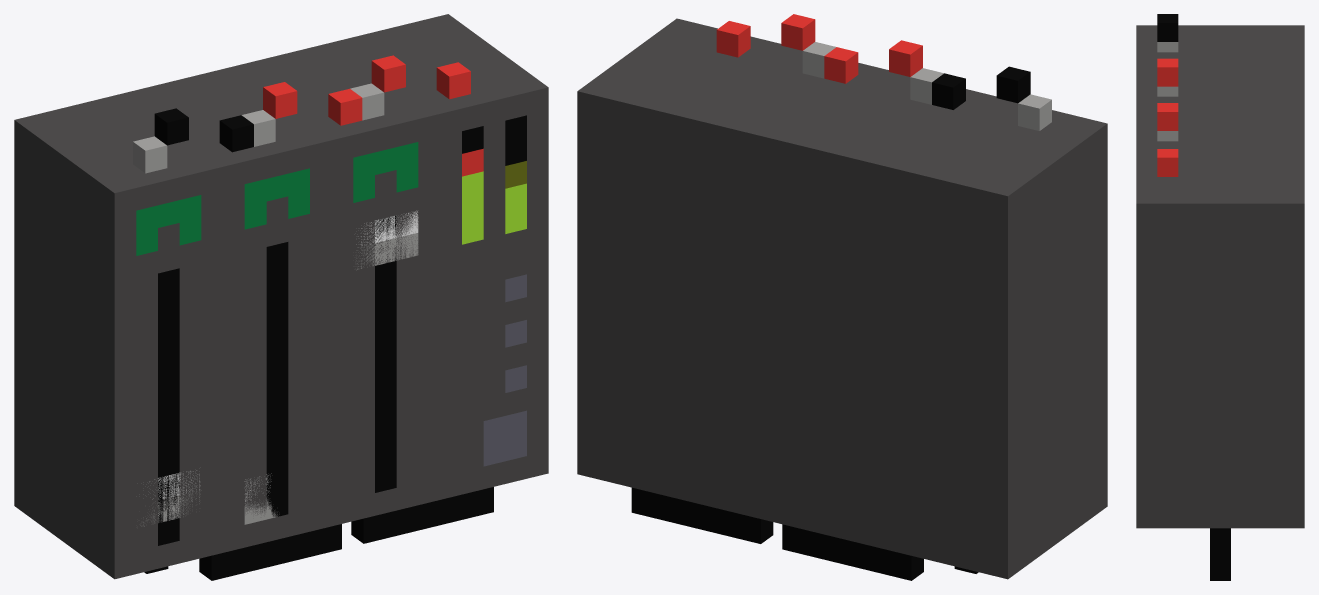
File: mixer.glb
The picture shows the model from 3 angles, left to right: view 1: azimuth 30°, elevation 25°; view 2: azimuth 150°, elevation 25°; view 3: azimuth 270°, elevation 25°; orthographic projection. The views are drawn at different scales.
Parts seen in each view (by area): view 1: base, btn-1, glasses, screen, btn; view 2: base, glasses; view 3: base, glasses.
Boxes of the visible parts, x1,y1,x2,y2 form: base: [14, 14, 548, 579]; btn-1: [158, 215, 396, 545]; glasses: [144, 487, 493, 580]; screen: [462, 115, 526, 244]; btn: [140, 210, 418, 526]; base: [577, 14, 1107, 579]; glasses: [631, 487, 978, 580]; base: [1136, 14, 1304, 528]; glasses: [1210, 528, 1230, 580].
Bounding box in the file's own units: 20 × 22 × 8.
Materials: 16 (16 with a texture image).
